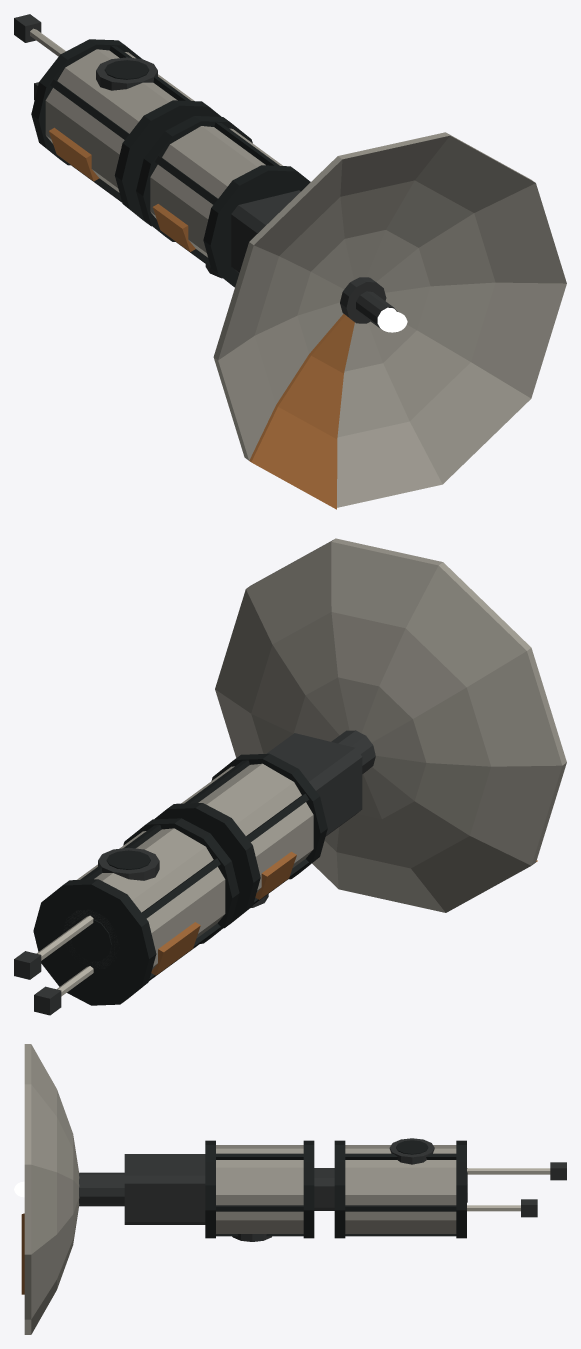
3 renders of one model, top to bottom at view 1: azimuth 30°, elevation 25°; view 2: azimuth 150°, elevation 25°; view 3: azimuth 270°, elevation 25°, orthographic. The views are drawn at different scales.
Parts seen in each view (by area): view 1: RIMWARD_HULL; view 2: RIMWARD_HULL; view 3: RIMWARD_HULL.
Boxes of the visible parts, left/top/right/bottom form: RIMWARD_HULL: left=14, top=14, right=566, bottom=509; RIMWARD_HULL: left=14, top=538, right=566, bottom=1015; RIMWARD_HULL: left=21, top=1044, right=566, bottom=1334.
Size of the model in its own units: 3.9 by 3.74 by 7.34.
